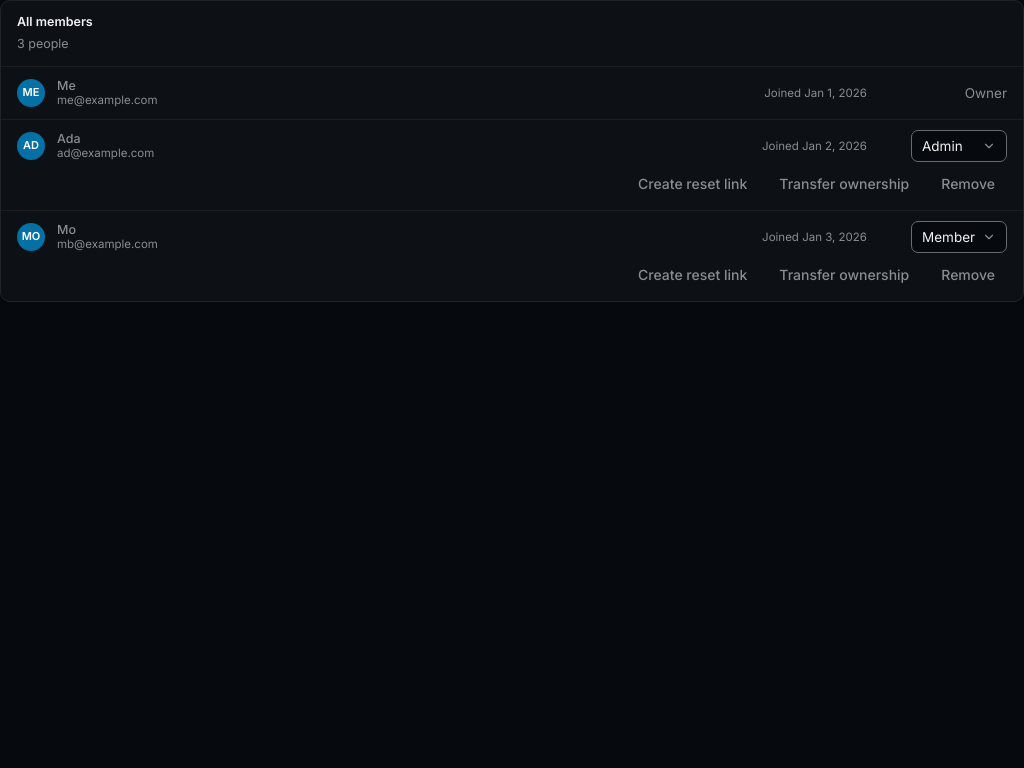
Scenario: Organization › Members › removes a member after a confirmation and says what went with them
# Each row's button names its person, not a list of identical "Remove"s.
Click the button with aria-label "Remove Mo".
click(968, 275)  # box top-left (929, 259), bottom-right (1007, 291)
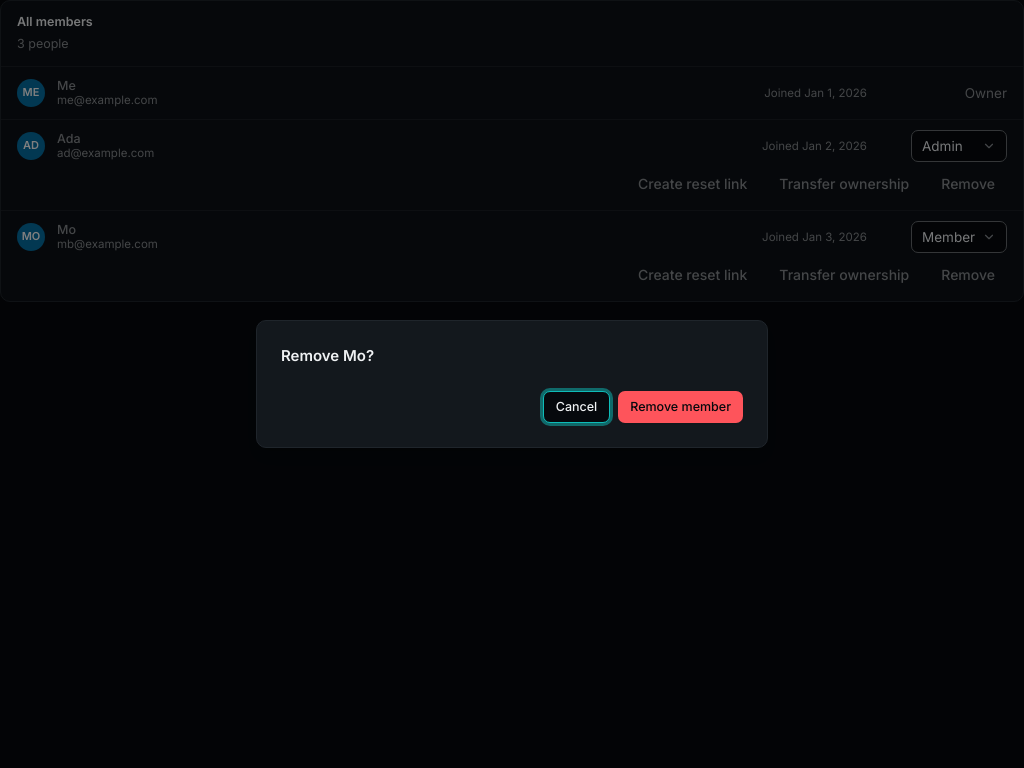
Expected: the dialog shows "Remove Mo?", top-left (281, 346), bottom-right (374, 365)
Click the button "Remove member".
click(681, 407)  # box top-left (618, 391), bottom-right (743, 423)
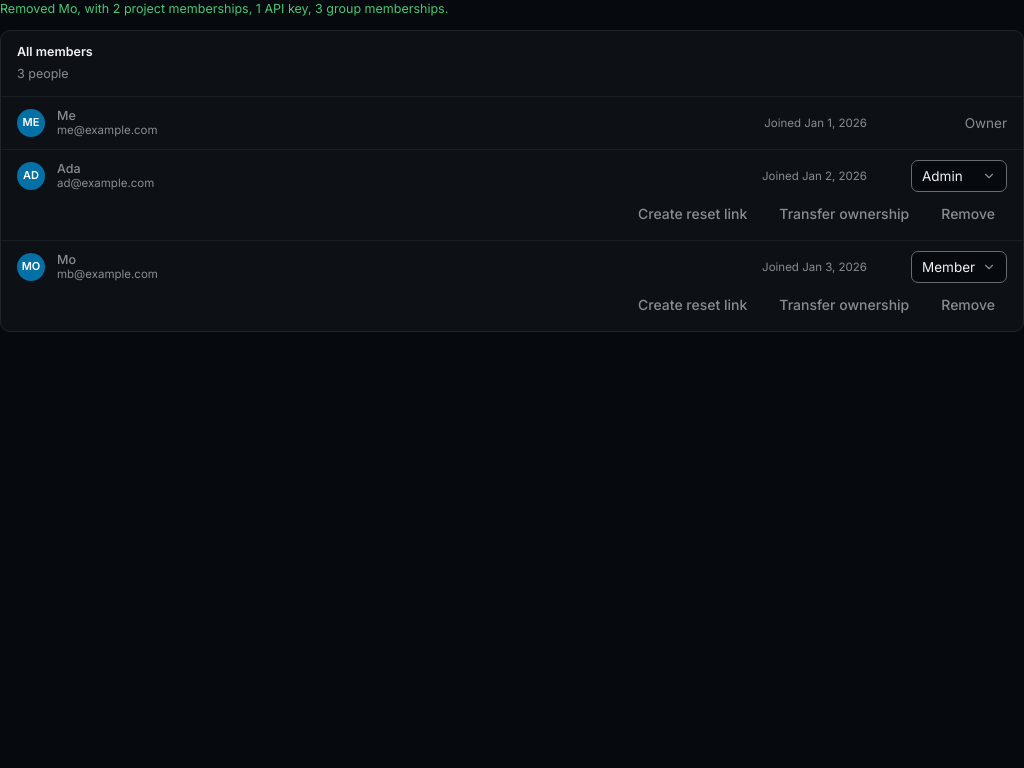
Expected: the text "Removed Mo, with 2 project memberships, 1 API key, 3 group memberships." is shown, top-left (0, 1), bottom-right (448, 16)
